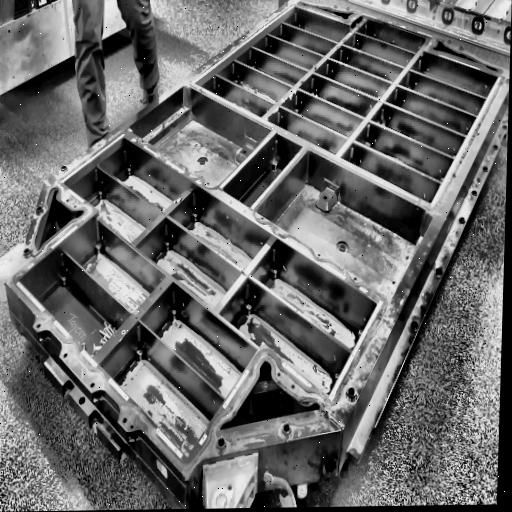b_casing: (3, 0, 510, 480)
